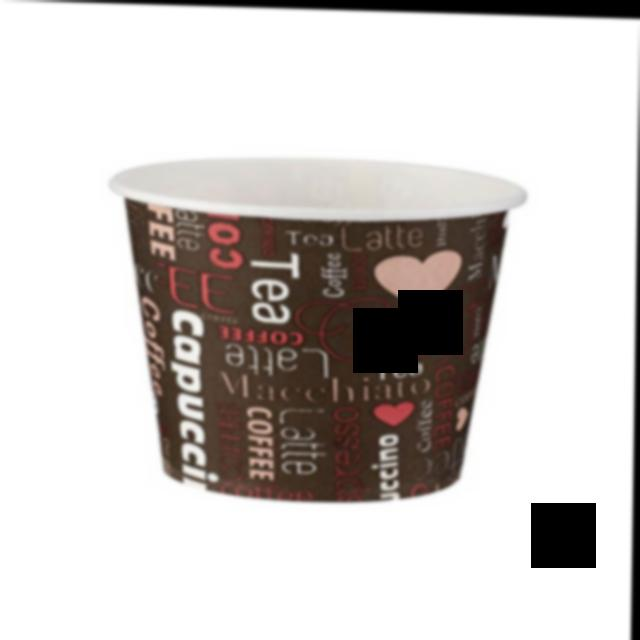karton-bardak: (89, 151, 548, 509)
